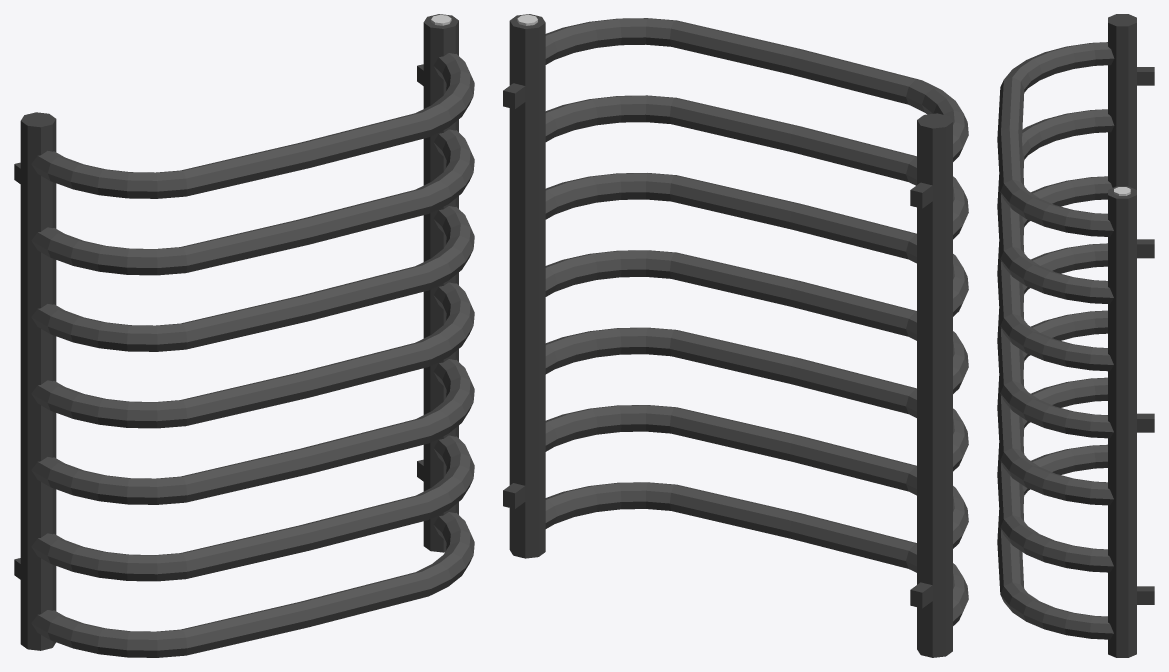
The model's file is TowelRail_06.fbx.
The picture shows the model from 3 angles, left to right: view 1: azimuth 30°, elevation 25°; view 2: azimuth 150°, elevation 25°; view 3: azimuth 270°, elevation 25°; orthographic projection. The views are drawn at different scales.
Parts seen in each view (by area): view 1: TowelRail_06; view 2: TowelRail_06; view 3: TowelRail_06.
Part boxes in pixels (left/top/right/bottom): TowelRail_06: left=14, top=14, right=474, bottom=657; TowelRail_06: left=503, top=14, right=968, bottom=657; TowelRail_06: left=997, top=14, right=1154, bottom=657.
Bounding box in the file's own units: 61.26 × 71.37 × 22.05.
